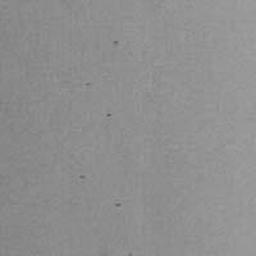Inclusion: (104, 111, 113, 119), (77, 173, 87, 180), (111, 40, 119, 46), (84, 82, 92, 88), (114, 201, 122, 207)
